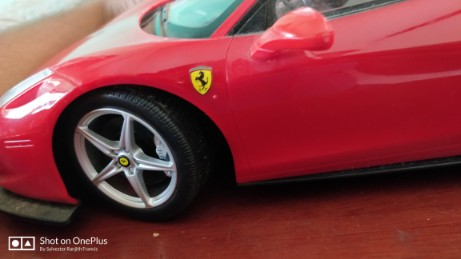unaligned_wheel: (49, 84, 236, 226)
